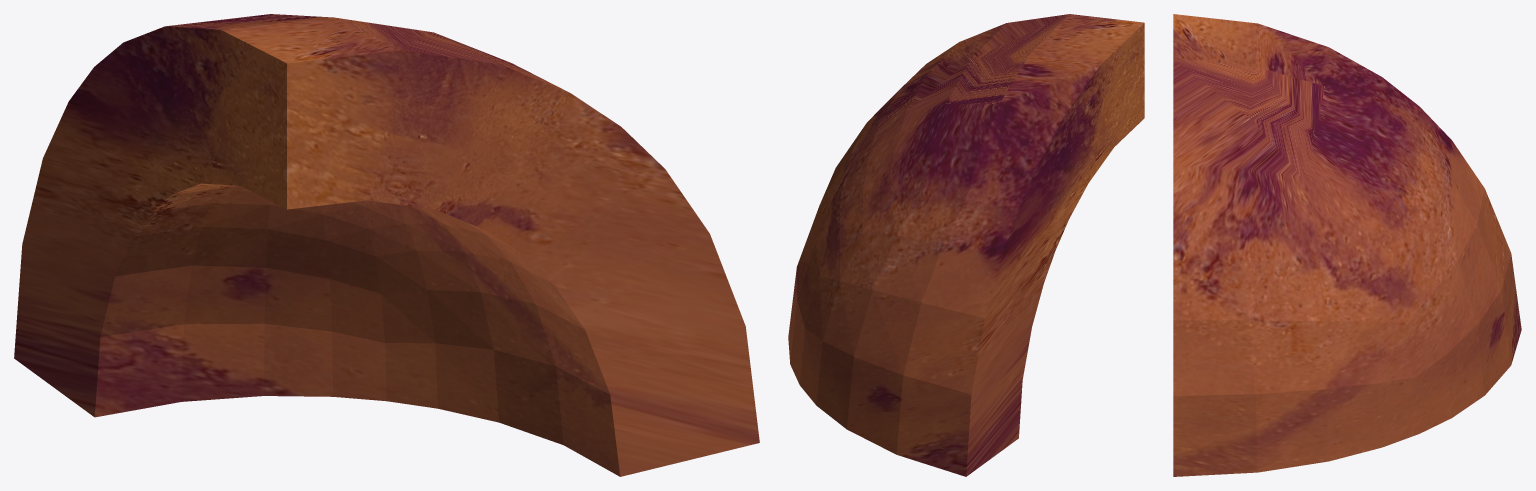
The model's file is obj_planet_piece_2.obj.
The picture shows the model from 3 angles, left to right: view 1: azimuth 30°, elevation 25°; view 2: azimuth 150°, elevation 25°; view 3: azimuth 270°, elevation 25°; orthographic projection. The views are drawn at different scales.
Parts seen in each view (by area): view 1: Cube.012_Cube.027; view 2: Cube.012_Cube.027; view 3: Cube.012_Cube.027.
Boxes of the visible parts, <box> form: Cube.012_Cube.027: <box>14,14,759,476</box>; Cube.012_Cube.027: <box>788,14,1144,476</box>; Cube.012_Cube.027: <box>1173,14,1521,476</box>.
Bounding box in the file's own units: 1.24 × 1.24 × 1.24.
1 material, 1 textured.
